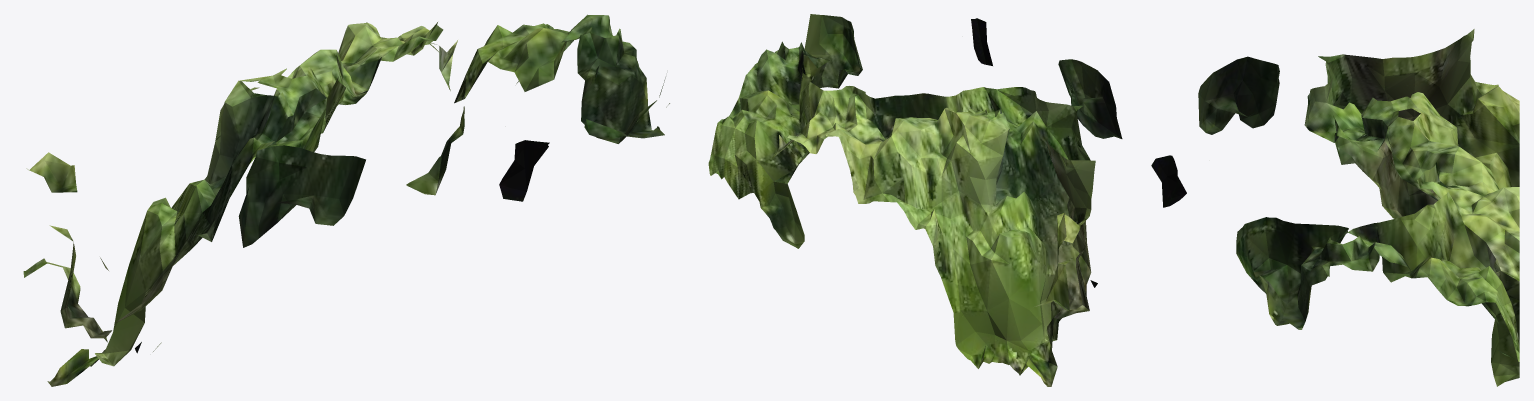
The picture shows the model from 3 angles, left to right: view 1: azimuth 30°, elevation 25°; view 2: azimuth 150°, elevation 25°; view 3: azimuth 270°, elevation 25°; orthographic projection. The views are drawn at different scales.
Size of the model in its own units: 26.11 by 14.86 by 17.31.
Materials: 2 (2 with a texture image).
